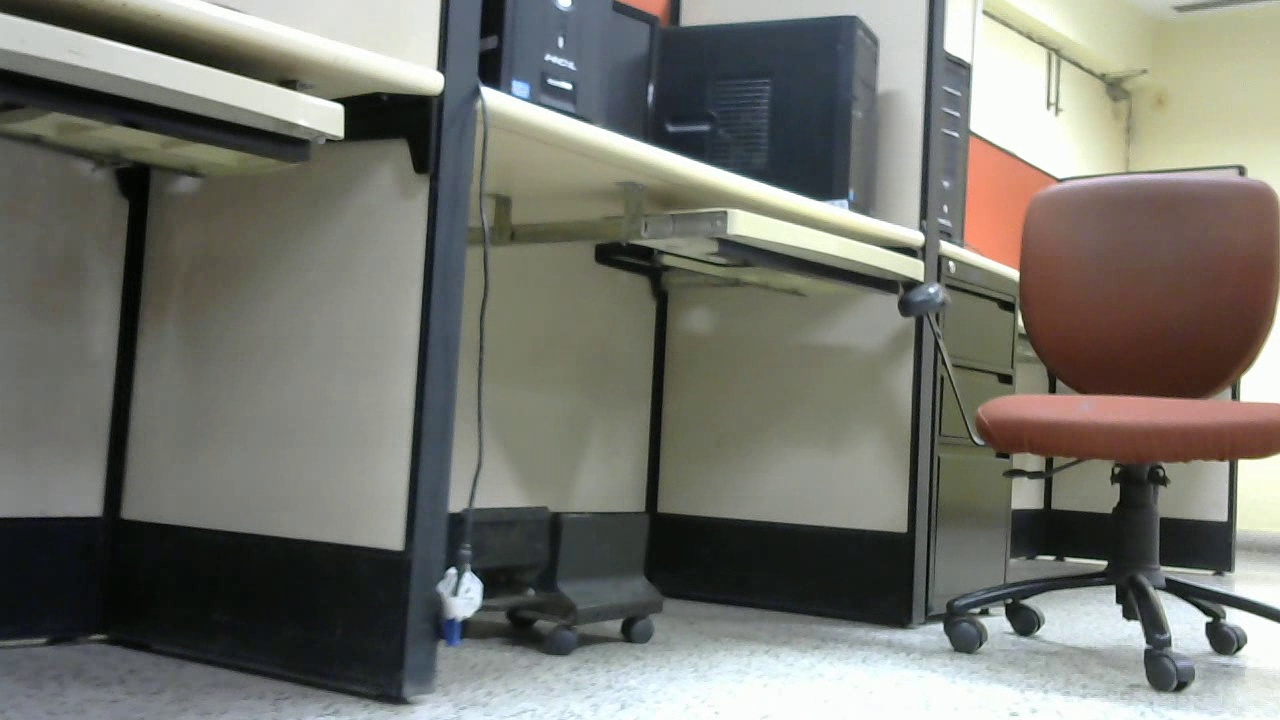chair: (422, 1, 993, 720), (1, 276, 126, 519)
